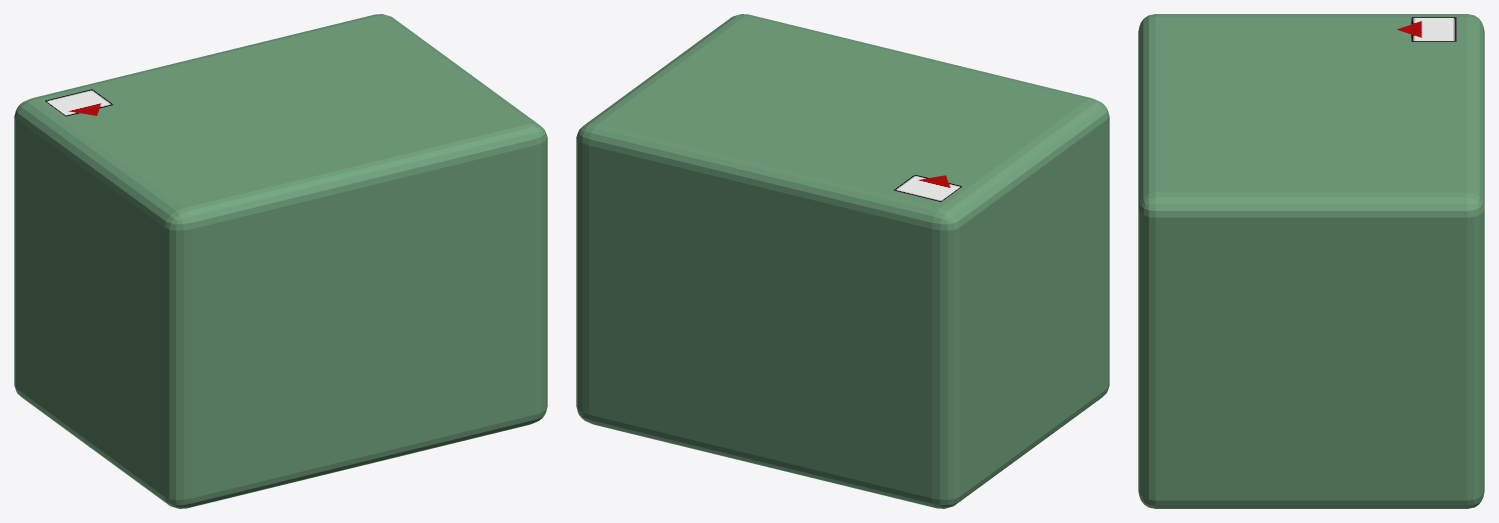
Rendered from StateROT.dae.
3 renders of one model, left to right at view 1: azimuth 30°, elevation 25°; view 2: azimuth 150°, elevation 25°; view 3: azimuth 270°, elevation 25°, orthographic. The views are drawn at different scales.
Visible parts, largest first — view 1: Cube, Plane; view 2: Cube, Plane; view 3: Cube, Plane.
Boxes of the visible parts, x1,y1,x2,y2 form: Cube: [14, 14, 547, 508]; Plane: [45, 89, 113, 116]; Cube: [576, 14, 1109, 508]; Plane: [893, 174, 961, 201]; Cube: [1138, 14, 1484, 508]; Plane: [1397, 17, 1456, 41].
Size of the model in its own units: 2 by 1.5 by 1.51.
Materials: 2 (1 with a texture image).
